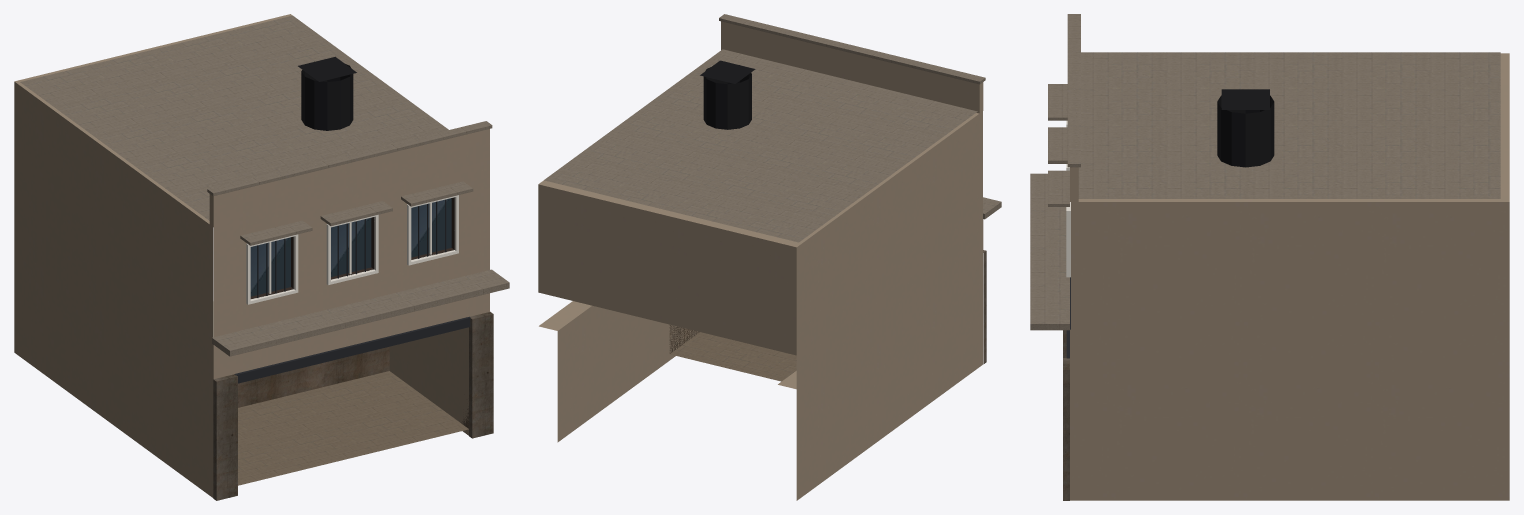
The model's file is ghilli.glb.
3 views of the same model, side by side, from view 1: azimuth 30°, elevation 25°; view 2: azimuth 150°, elevation 25°; view 3: azimuth 270°, elevation 25° (orthographic). The views are drawn at different scales.
Visible parts, largest first — view 1: ghilli_0, ghilli_6, ghilli_3, ghilli_1, ghilli_7, ghilli_5, ghilli_2, ghilli_10, ghilli_9, ghilli_8; view 2: ghilli_0, ghilli_6, ghilli_3, ghilli_10; view 3: ghilli_0, ghilli_6, ghilli_10, ghilli_1.
Boxes of the visible parts, x1=… form: ghilli_0: x1=14, y1=14, x2=489, y2=497; ghilli_6: x1=20, y1=15, x2=509, y2=356; ghilli_3: x1=238, y1=371, x2=468, y2=485; ghilli_1: x1=213, y1=311, x2=493, y2=500; ghilli_7: x1=250, y1=198, x2=451, y2=296; ghilli_5: x1=234, y1=199, x2=470, y2=383; ghilli_2: x1=238, y1=346, x2=468, y2=428; ghilli_10: x1=298, y1=56, x2=356, y2=130; ghilli_9: x1=246, y1=195, x2=458, y2=304; ghilli_8: x1=250, y1=197, x2=454, y2=298; ghilli_0: x1=538, y1=21, x2=983, y2=500; ghilli_6: x1=544, y1=14, x2=1001, y2=242; ghilli_3: x1=670, y1=332, x2=796, y2=381; ghilli_10: x1=700, y1=60, x2=755, y2=129; ghilli_0: x1=1070, y1=53, x2=1509, y2=500; ghilli_6: x1=1030, y1=14, x2=1500, y2=330; ghilli_10: x1=1217, y1=89, x2=1274, y2=167; ghilli_1: x1=1063, y1=330, x2=1069, y2=500.
Bounding box in the file's own units: 8.1 × 8.95 × 10.9.
11 materials, 11 textured.
